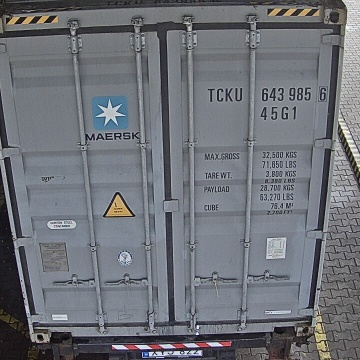serial_id: (207, 87, 328, 101)
